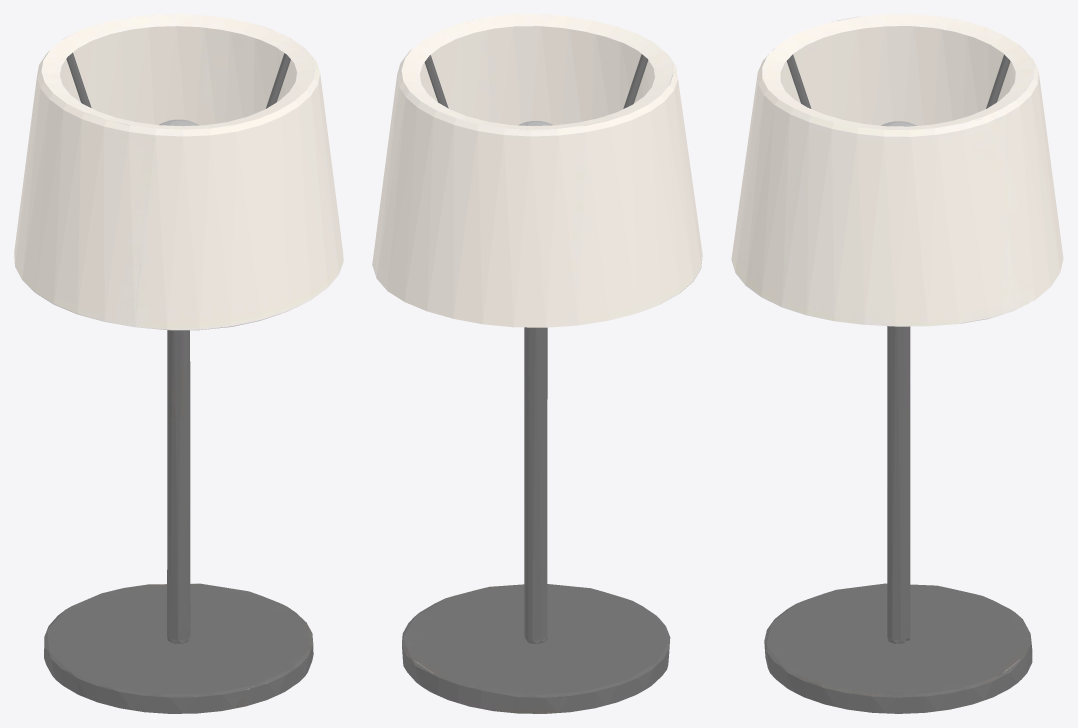
File: floorlamp.glb
The picture shows the model from 3 angles, left to right: view 1: azimuth 30°, elevation 25°; view 2: azimuth 150°, elevation 25°; view 3: azimuth 270°, elevation 25°; orthographic projection.
Visible parts, largest first — view 1: FloorLamp_Bulb_Baked; view 2: FloorLamp_Bulb_Baked; view 3: FloorLamp_Bulb_Baked.
Part boxes in pixels (box(x1,y1,x2,y2)): FloorLamp_Bulb_Baked: box(14, 14, 343, 713); FloorLamp_Bulb_Baked: box(372, 14, 702, 713); FloorLamp_Bulb_Baked: box(731, 14, 1063, 713).
Size of the model in its own units: 0.3259 by 0.6416 by 0.3293.
Materials: 1 (1 with a texture image).
